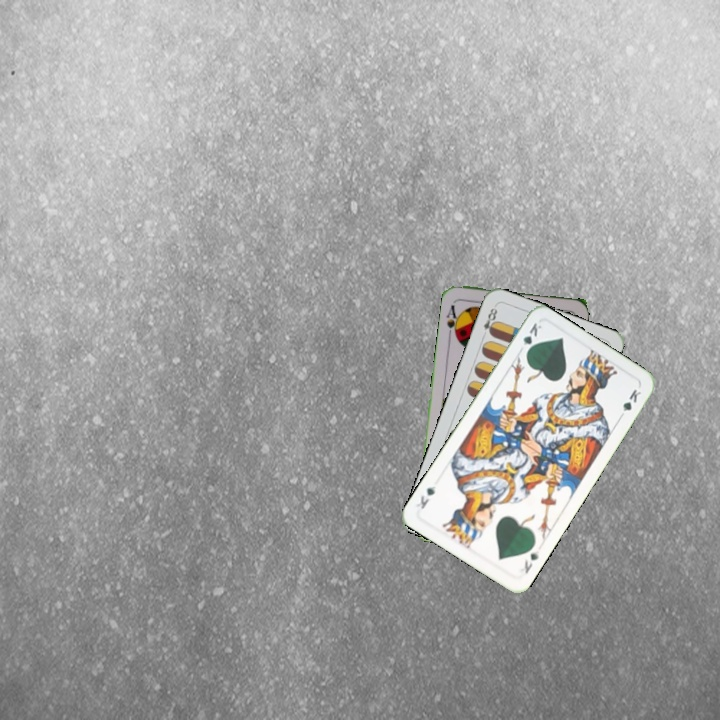E8: (478, 302, 500, 340)
GK: (515, 318, 544, 357), (520, 546, 542, 576)
SA: (442, 301, 463, 339)
